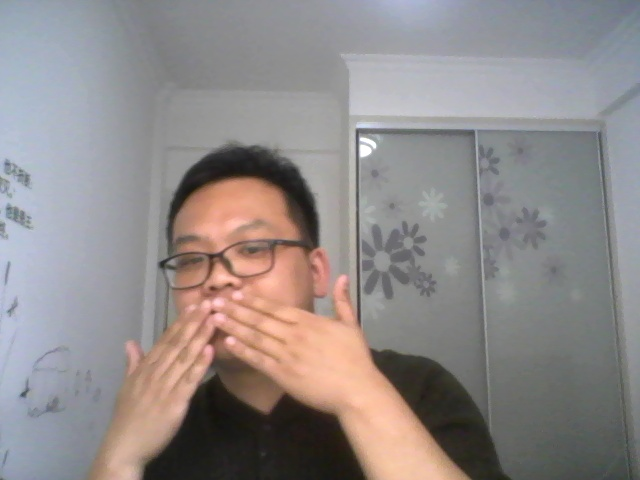Thank You: (110, 274, 382, 459)
